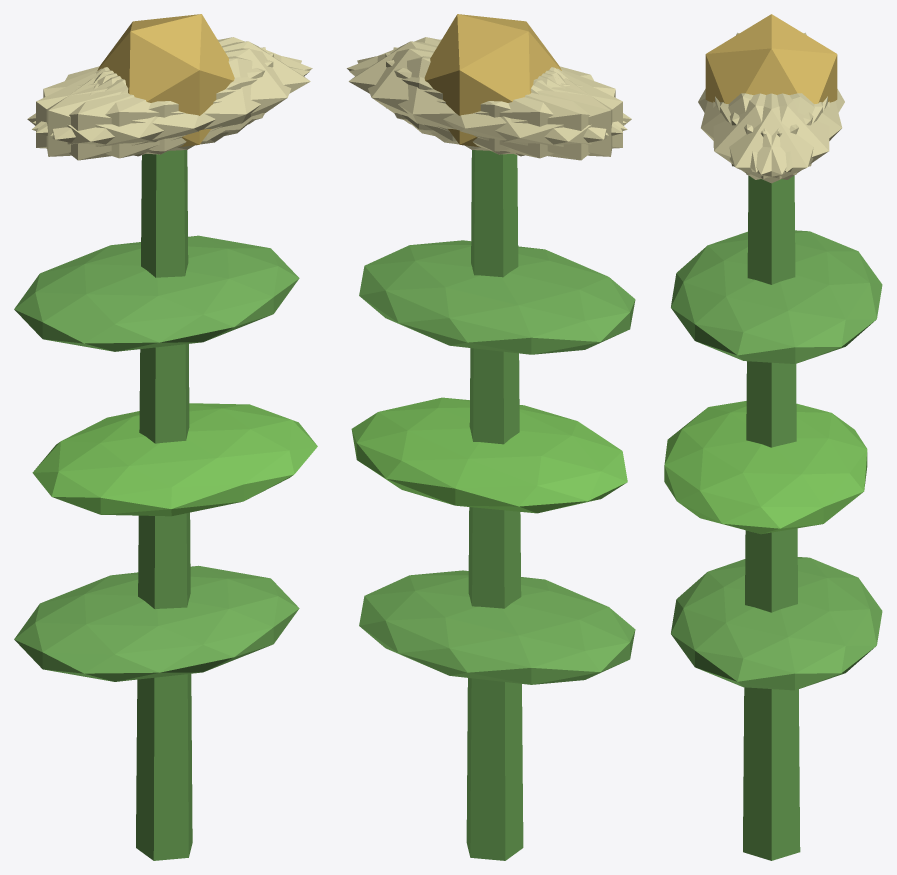
File: ludwigia-decurrens.glb
3 views of the same model, side by side, from view 1: azimuth 30°, elevation 25°; view 2: azimuth 150°, elevation 25°; view 3: azimuth 270°, elevation 25° (orthographic).
Parts seen in each view (by area): view 1: stem, leaf2, leaf1, leaf0, center, petal1, petal6, petal2, petal5, petal7, petal0, petal4 (+2 smaller); view 2: stem, leaf2, leaf0, leaf1, center, petal8, petal3, petal7, petal4, petal2, petal0, petal5 (+2 smaller); view 3: stem, leaf2, leaf1, leaf0, center, petal0, petal4, petal5, petal1, petal8.
Boxes of the visible parts, <box> form: stem: <box>136,150,192,860</box>; leaf2: <box>14,235,299,351</box>; leaf1: <box>32,403,317,516</box>; leaf0: <box>14,565,299,681</box>; center: <box>97,14,234,147</box>; petal1: <box>32,56,309,158</box>; petal6: <box>27,68,228,160</box>; petal2: <box>46,47,265,156</box>; petal5: <box>50,48,301,151</box>; petal7: <box>36,53,273,154</box>; petal0: <box>97,41,310,141</box>; petal4: <box>33,37,312,133</box>; stem: <box>466,150,523,860</box>; leaf2: <box>359,240,635,354</box>; leaf0: <box>359,570,635,684</box>; leaf1: <box>351,397,627,513</box>; center: <box>424,14,561,146</box>; petal8: <box>349,56,627,158</box>; petal3: <box>430,68,631,160</box>; petal7: <box>393,47,612,156</box>; petal4: <box>357,48,608,151</box>; petal2: <box>385,53,622,154</box>; petal0: <box>348,41,561,141</box>; petal5: <box>347,37,626,132</box>; stem: <box>743,175,800,860</box>; leaf2: <box>671,230,882,363</box>; leaf1: <box>664,401,867,534</box>; leaf0: <box>671,557,882,690</box>; center: <box>705,14,837,103</box>; petal0: <box>715,93,827,183</box>; petal4: <box>720,93,829,179</box>; petal5: <box>713,93,822,179</box>; petal1: <box>701,93,813,172</box>; petal8: <box>730,93,842,172</box>.
Size of the model in its own units: 0.1452 by 0.4187 by 0.1013.
